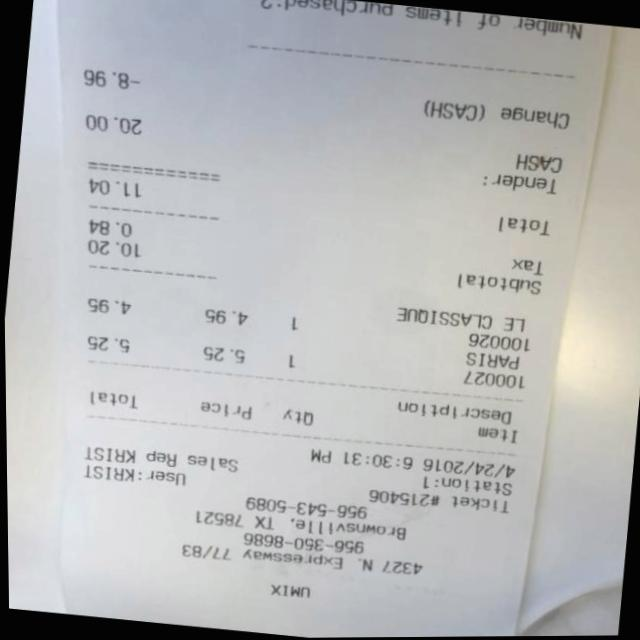Paper: (0, 0, 623, 640)
